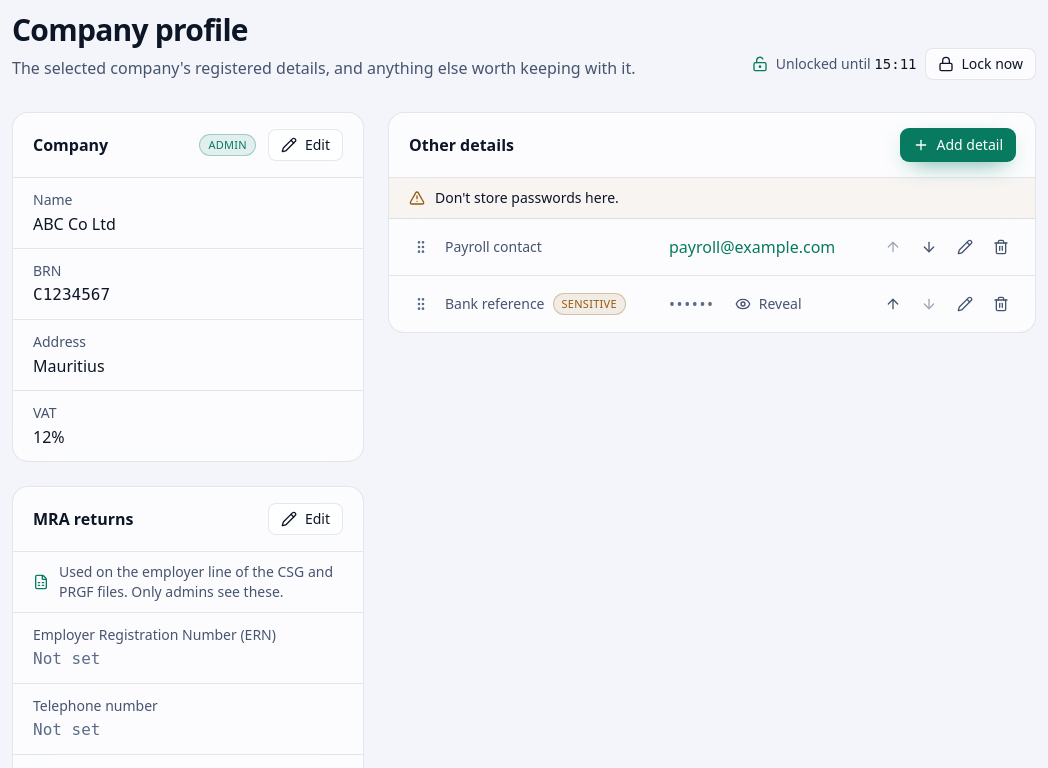
Test: sensitive details › can be hidden again by hand
Expected: the text "Bank reference" is shown, [445,294,544,314]
Step 1. Click the button with aria-label "Reveal Bank reference" → x=768, y=304, box [723,288,814,320]
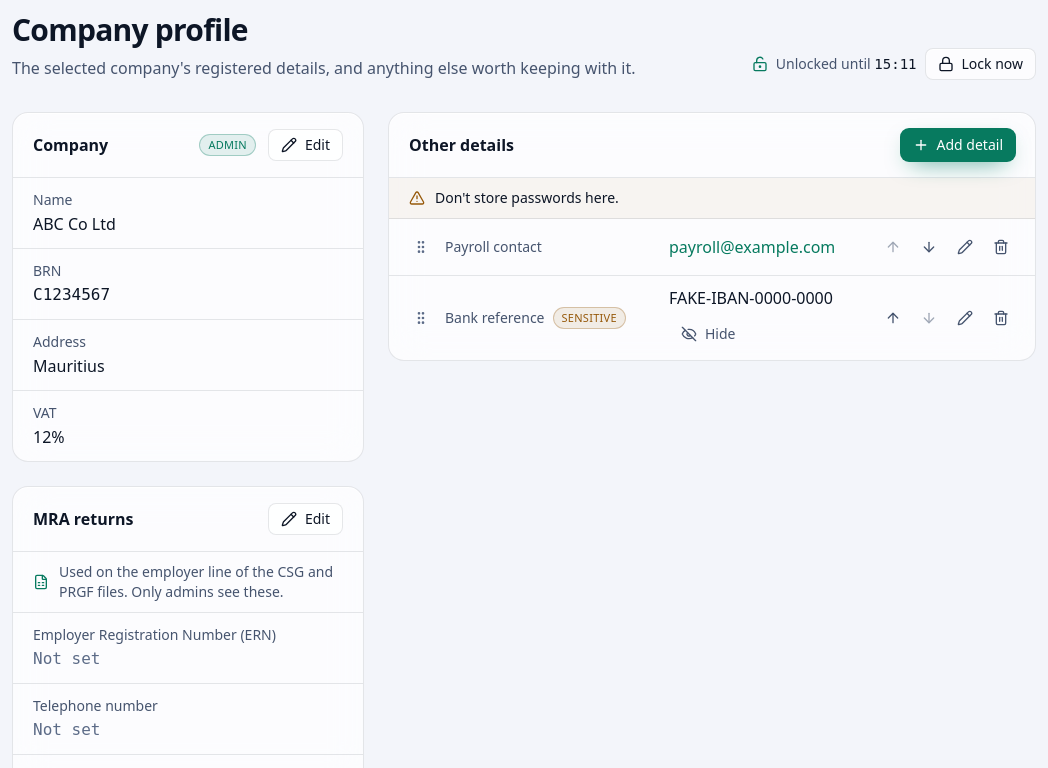
Expected: the text "FAKE-IBAN-0000-0000" is shown, [669,286,833,310]
Step 2. Click the button with aria-label "Hide Bank reference" → x=708, y=334, box [669,318,748,350]
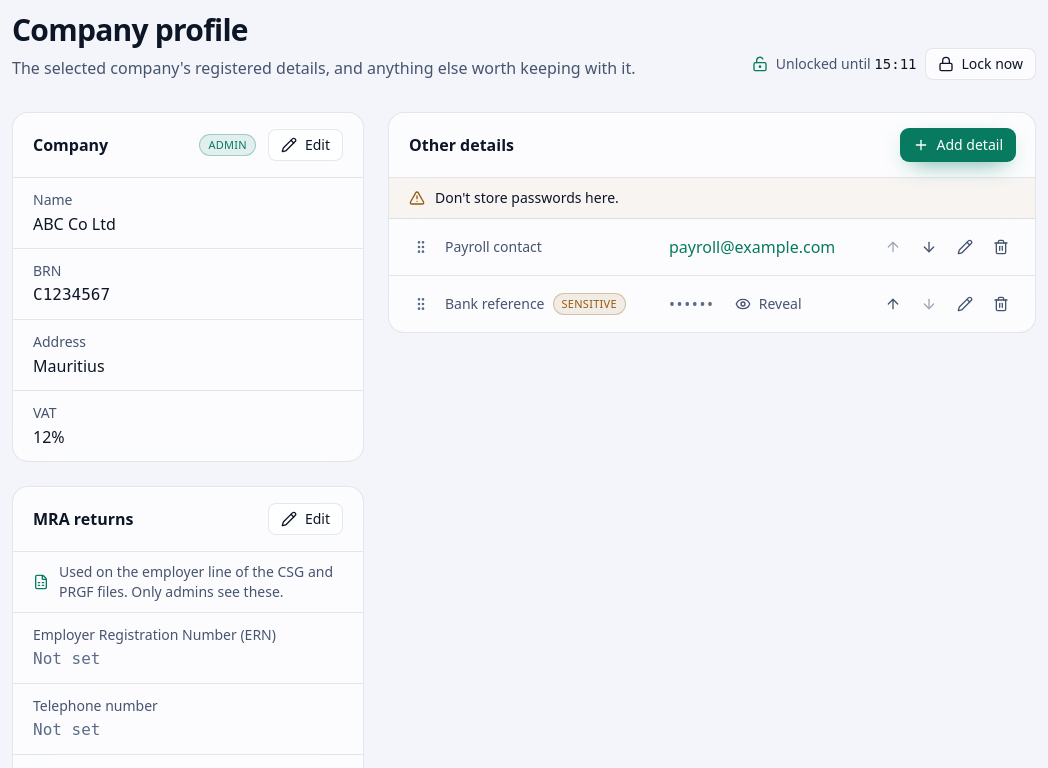
Expected: the text "FAKE-IBAN-0000-0000" is gone
Expected: the text "••••••" is shown, [669,292,715,316]
